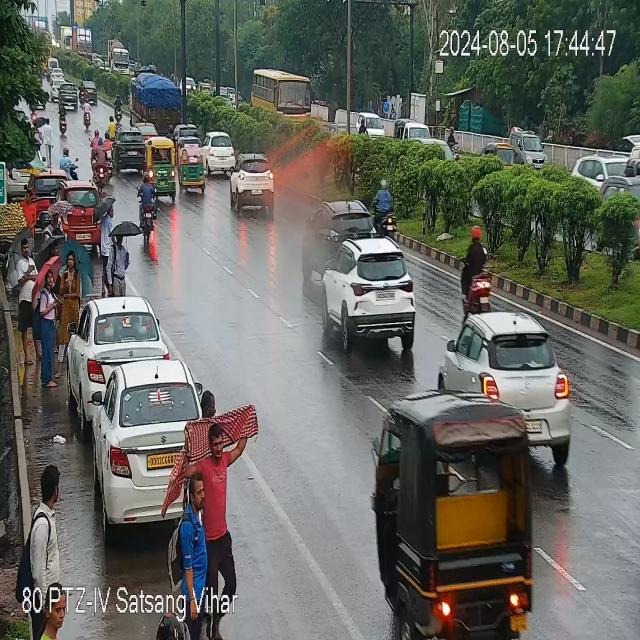2-wheelers: (459, 235, 497, 308), (370, 182, 402, 236), (135, 179, 161, 236), (90, 132, 114, 182), (80, 103, 94, 131), (58, 107, 70, 136)
auto: (375, 391, 540, 640), (144, 141, 176, 195), (479, 143, 520, 170), (177, 163, 206, 192)
bus: (247, 68, 321, 119)
car: (76, 358, 247, 528), (439, 310, 574, 428), (322, 237, 420, 344), (68, 297, 168, 401), (230, 158, 278, 213), (574, 154, 634, 198), (317, 199, 382, 239), (62, 184, 105, 243), (201, 134, 240, 172), (114, 130, 147, 170), (58, 83, 84, 110), (172, 125, 202, 144)
pedestrian: (178, 384, 242, 600), (23, 462, 67, 624), (35, 268, 58, 381), (15, 243, 38, 356), (102, 226, 130, 298), (64, 249, 82, 307), (23, 190, 37, 232), (40, 208, 51, 243)
truck: (130, 71, 189, 128)
